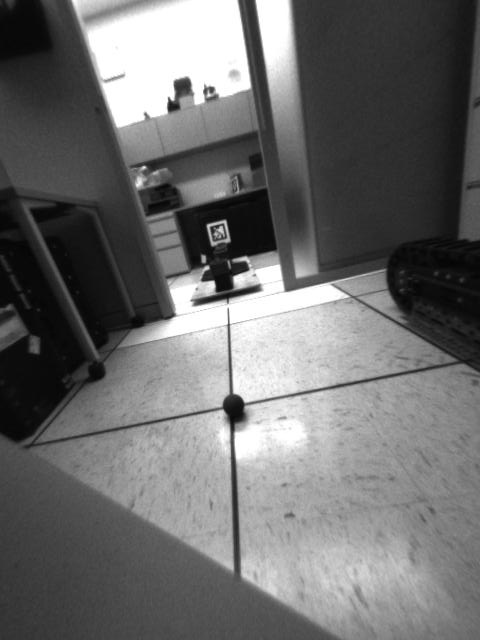dogtoy: (217, 388, 254, 425)
